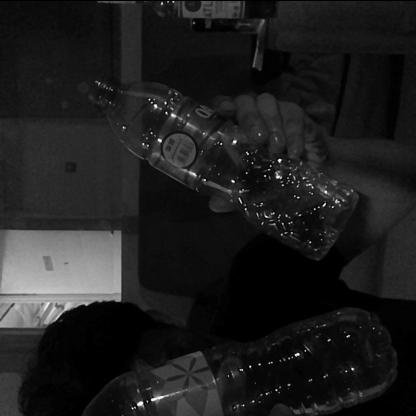plastic_bottles: (85, 74, 358, 262), (81, 302, 401, 416)
